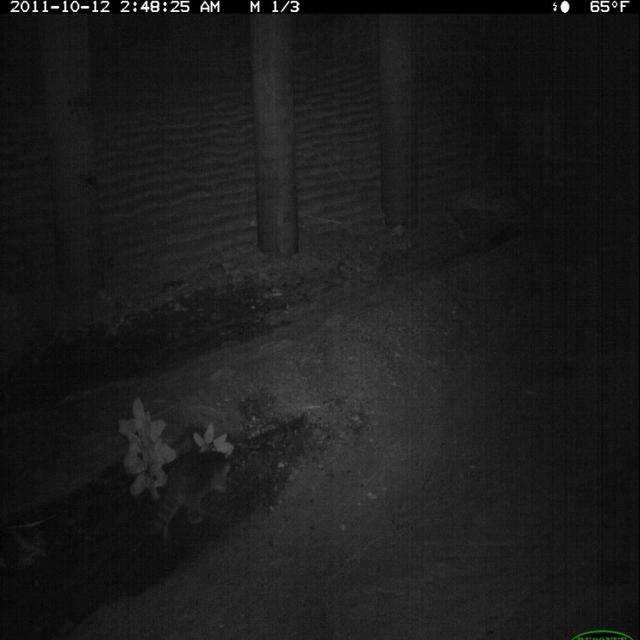raccoon: (145, 447, 235, 549)
